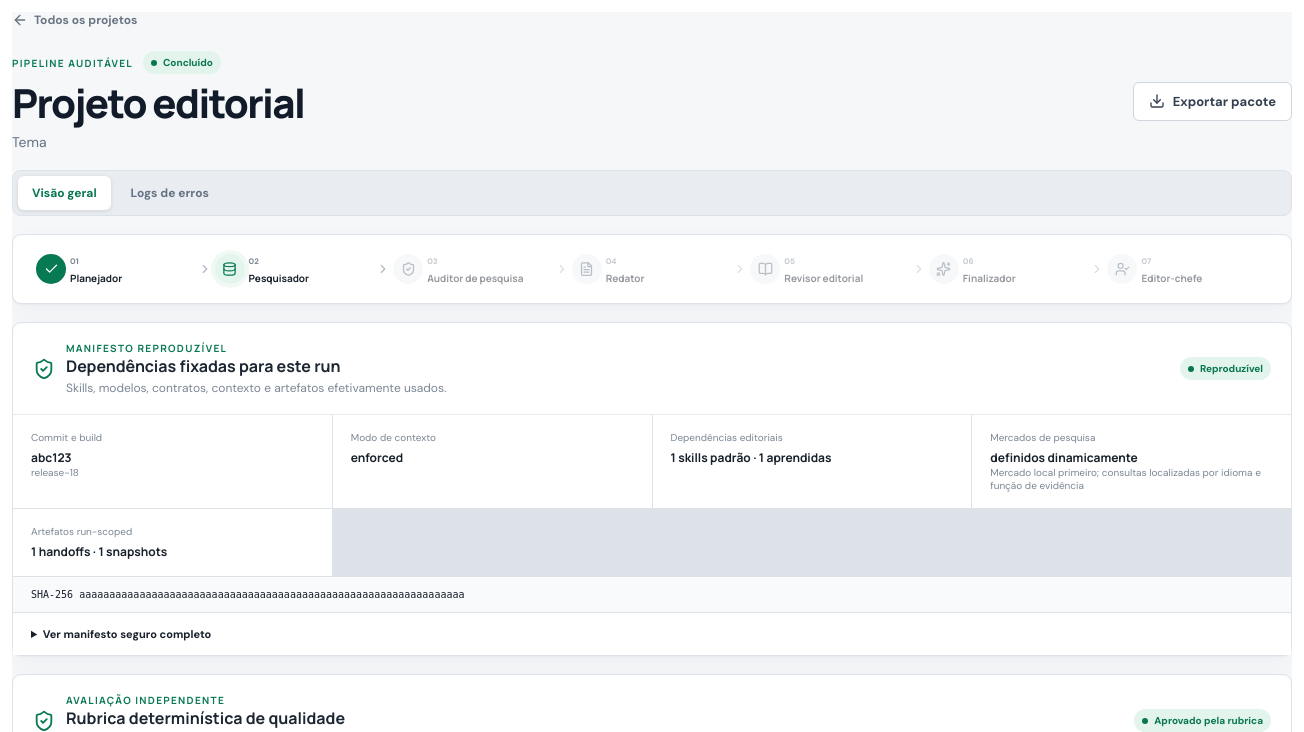
Test: Pipeline editorial export › shows loading and prevents repeated clicks while generation is pending
This screenshot has width=1304, height=732.
Click the button "Exportar pacote" at (1212, 101), box [1133,82,1292,120]
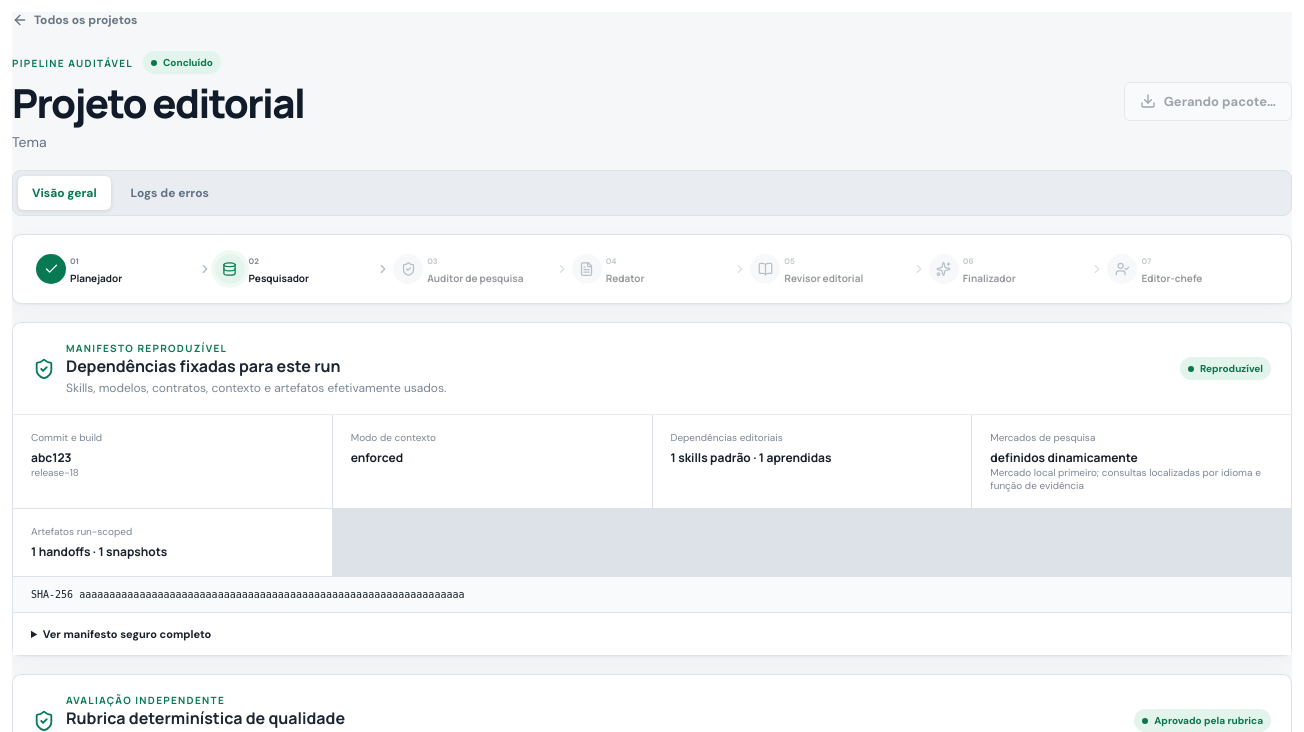
Expected: the button "Gerando pacote…" is shown
Click the button "Gerando pacote…" at (1208, 101), box [1124,82,1292,120]
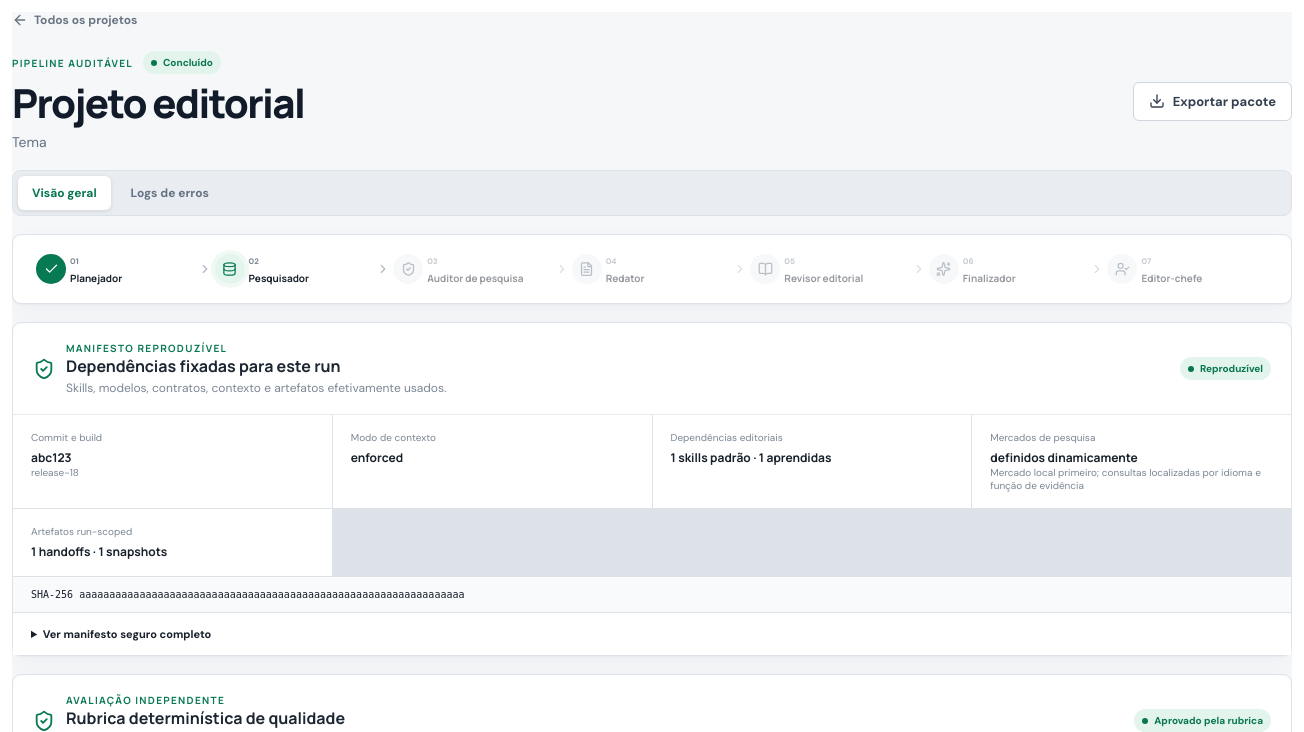
Expected: the button "Exportar pacote" is shown, [1133,82,1292,120]
